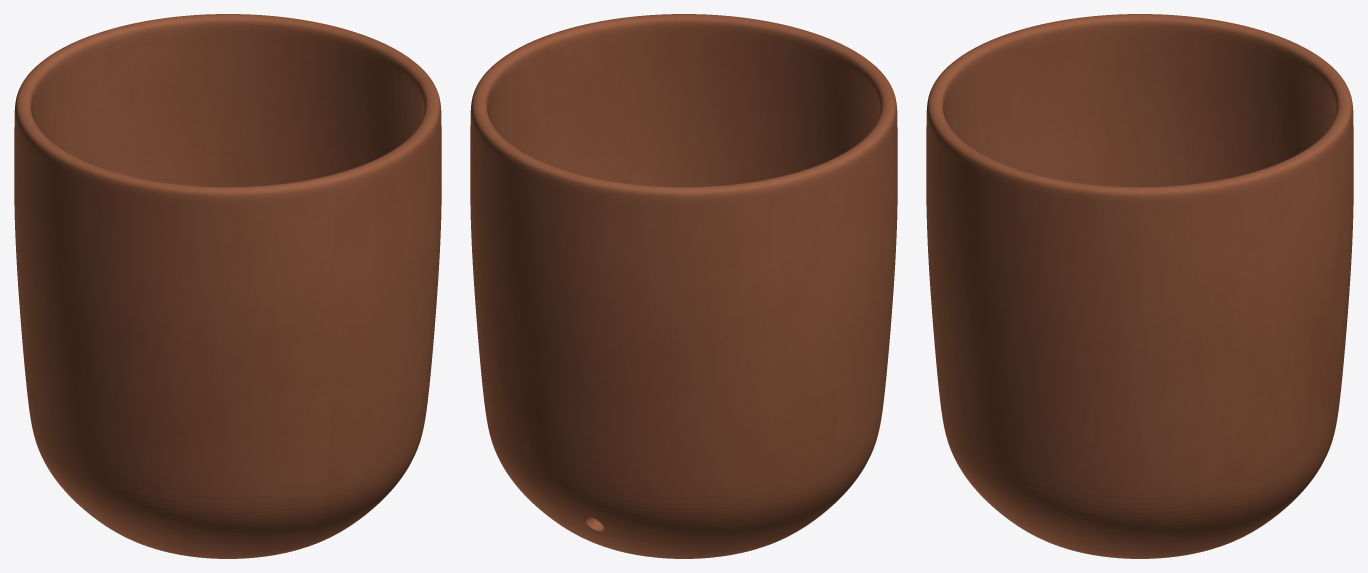
The picture shows the model from 3 angles, left to right: view 1: azimuth 30°, elevation 25°; view 2: azimuth 150°, elevation 25°; view 3: azimuth 270°, elevation 25°; orthographic projection.
Parts seen in each view (by area): view 1: Cylinder; view 2: Cylinder; view 3: Cylinder.
Part boxes in pixels (<box>): Cylinder: <box>14,14,441,558</box>; Cylinder: <box>470,14,897,558</box>; Cylinder: <box>926,14,1353,558</box>.
Bounding box in the file's own units: 1.99 × 2.12 × 1.99.
1 material, 1 textured.
